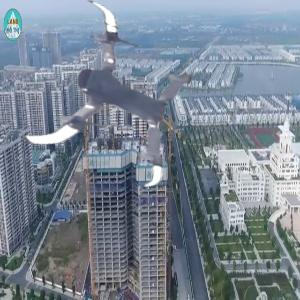drone: (18, 3, 197, 182)
